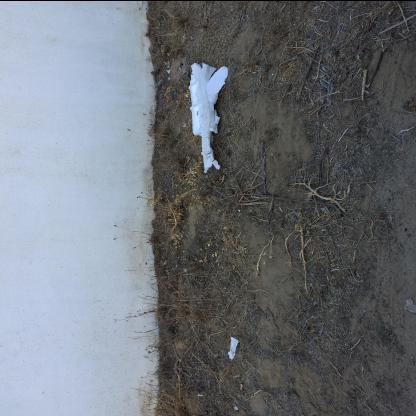kagit: (229, 336, 240, 360)
kopuk: (189, 62, 230, 174)
